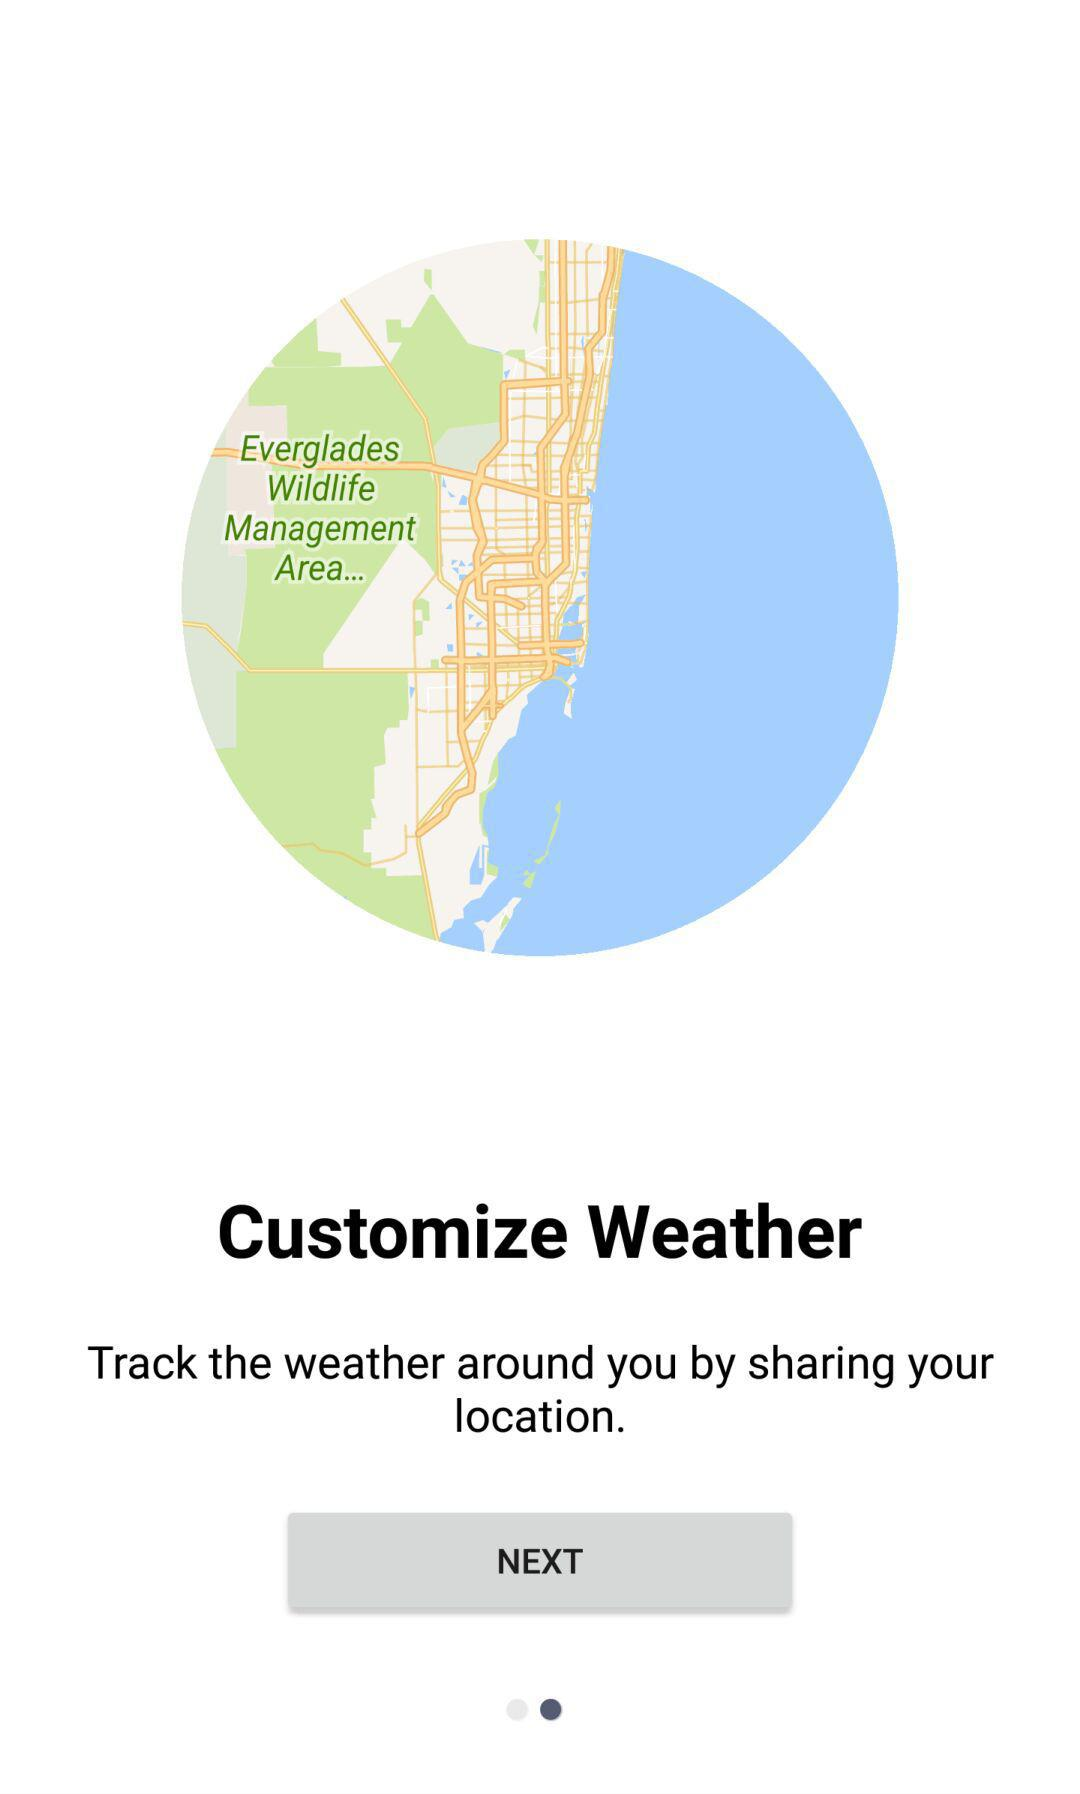Image: (179, 238, 901, 959)
PageIndicator: (505, 1698, 564, 1722)
Text: (87, 1343, 995, 1435), (218, 1201, 865, 1262)
TextButton: (287, 1512, 794, 1616)
